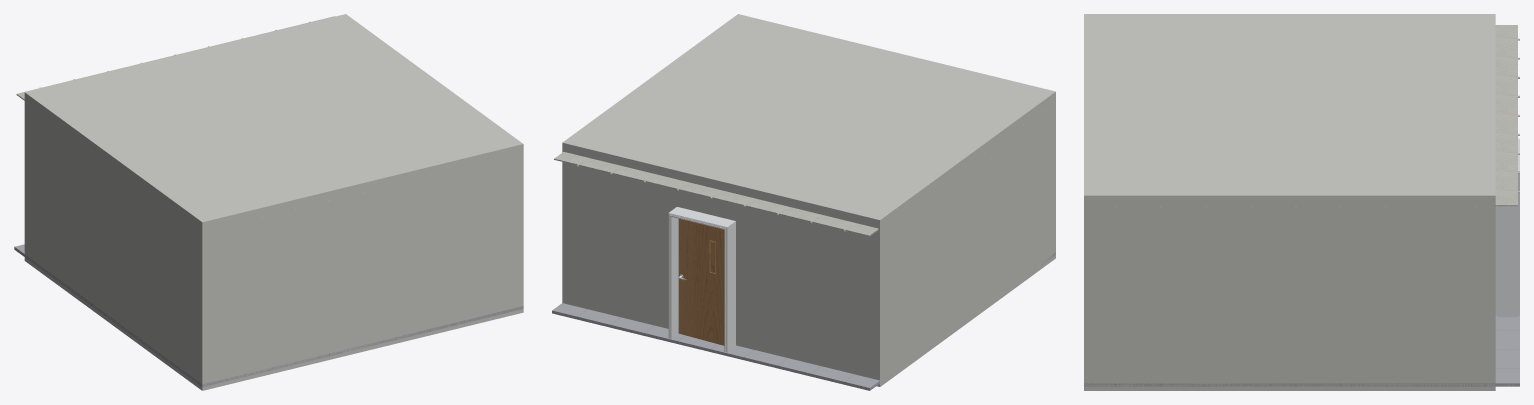
Rendered from infinigen-oncology-consult.glb.
3 renders of one model, left to right at view 1: azimuth 30°, elevation 25°; view 2: azimuth 150°, elevation 25°; view 3: azimuth 270°, elevation 25°, orthographic. The views are drawn at different scales.
Visible parts, largest first — view 1: bedroom_0/0.exterior, openclinxr_floor_field; view 2: bedroom_0/0.exterior, bedroom_0/0.door_leaf, openclinxr_floor_field, bedroom_0/0.door_casing, openclinxr_ceiling_tiles; view 3: bedroom_0/0.exterior, openclinxr_ceiling_tiles, openclinxr_floor_field, bedroom_0/0.door_casing.
Boxes of the visible parts, x1,y1,x2,y2 form: bedroom_0/0.exterior: (24, 14, 523, 390); openclinxr_floor_field: (14, 244, 523, 387); bedroom_0/0.exterior: (562, 14, 1055, 386); bedroom_0/0.door_leaf: (678, 219, 724, 345); openclinxr_floor_field: (552, 252, 1055, 390); bedroom_0/0.door_casing: (668, 207, 735, 352); openclinxr_ceiling_tiles: (554, 152, 878, 236); bedroom_0/0.exterior: (1084, 14, 1495, 390); openclinxr_ceiling_tiles: (1495, 25, 1517, 206); openclinxr_floor_field: (1084, 315, 1519, 386); bedroom_0/0.door_casing: (1495, 138, 1519, 317).
Size of the model in its own units: 5.72 by 2.87 by 5.8.
Materials: 17 (10 with a texture image).
